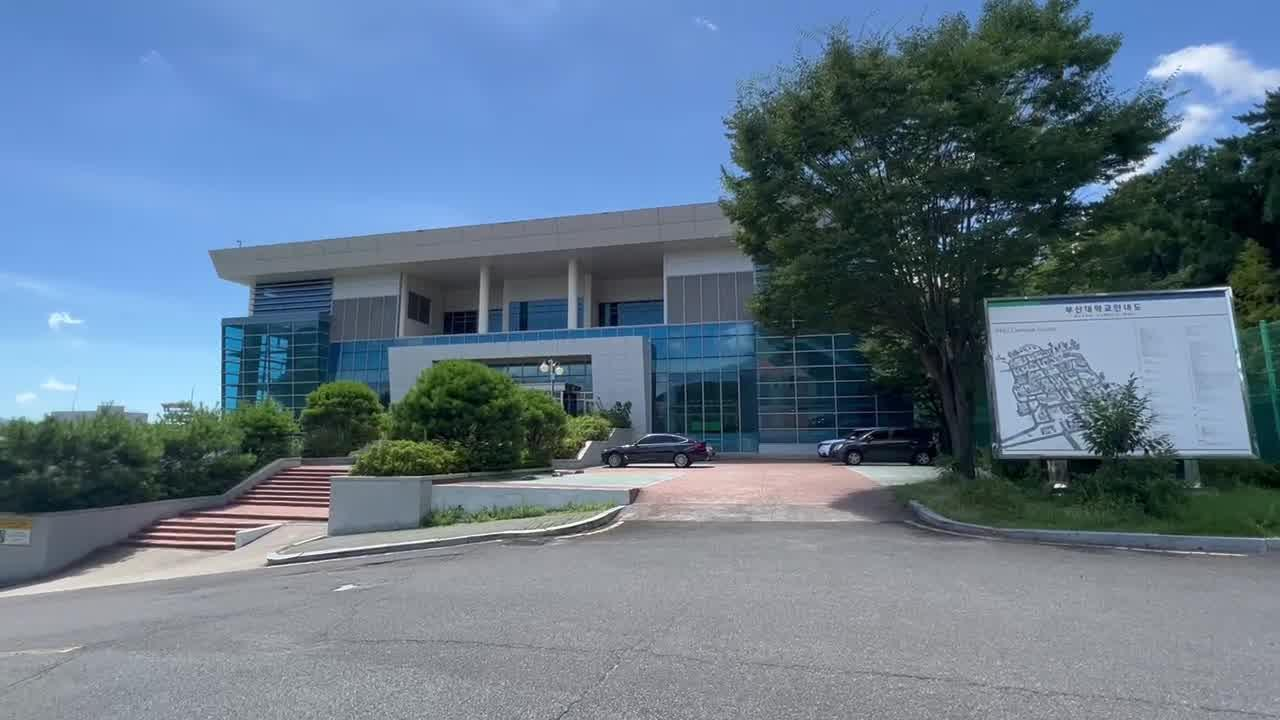building: (186, 188, 744, 411)
